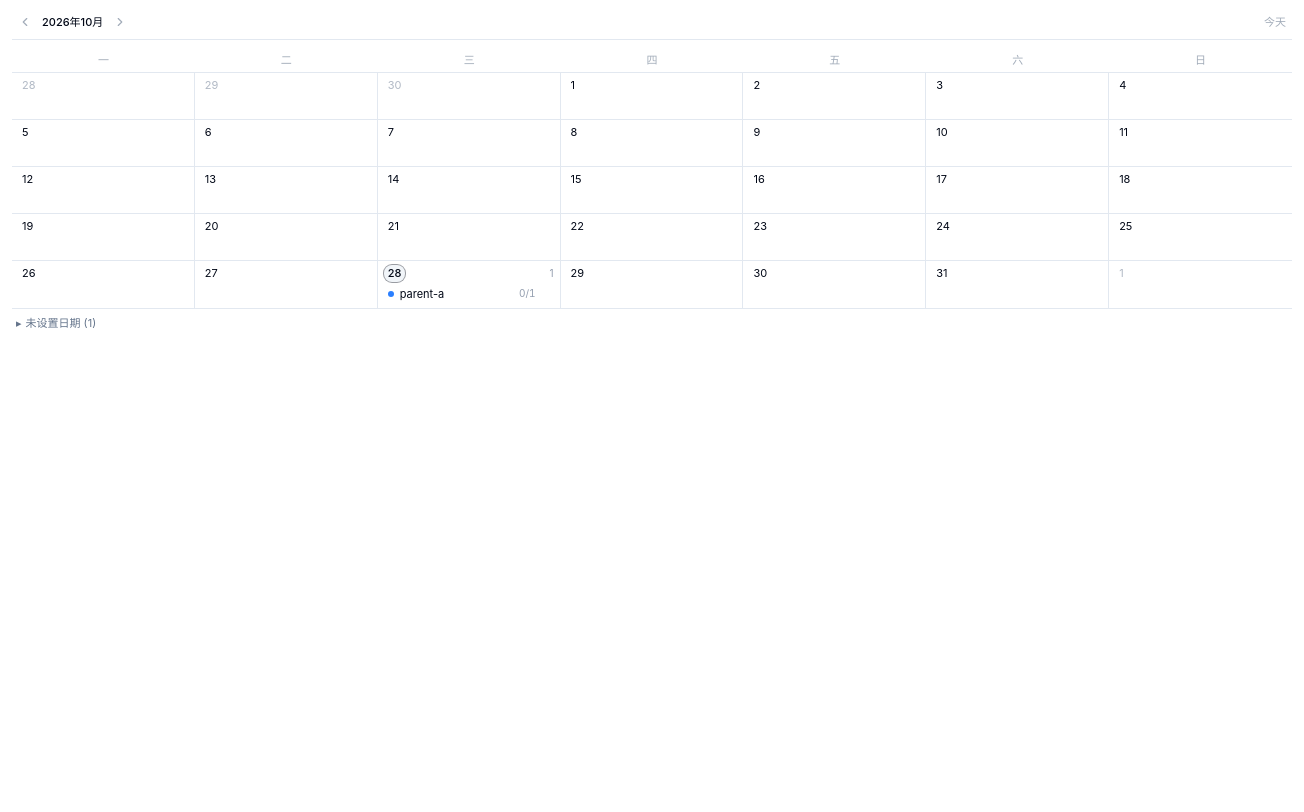
Scenario: TaskCalendar 子任务浮层入口 › 点外部关闭浮层
The image size is (1304, 812).
Click the button "0/1": (527,294) [519,286,536,301]
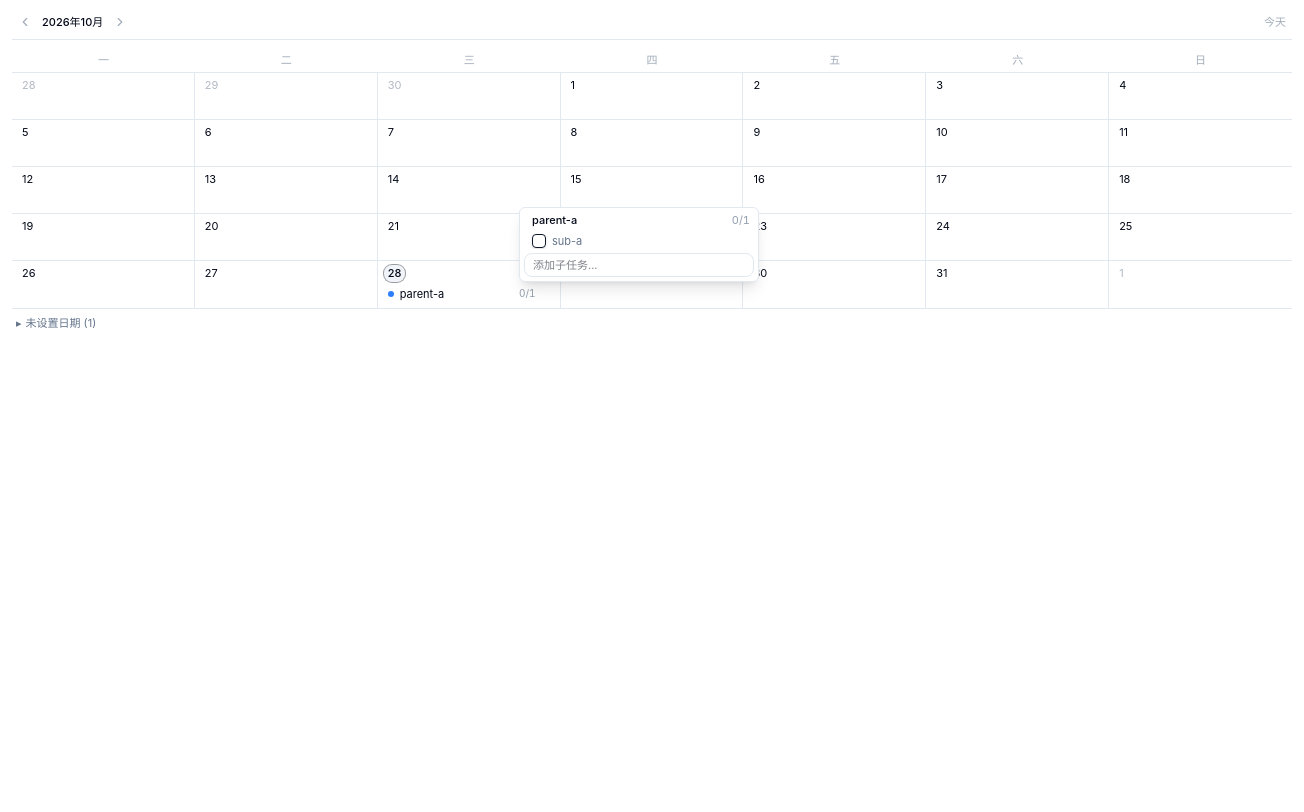
Now the field with placeholder "添加子任务..." is shown, box [524,253,754,277]
Press the mouse on the element that starts with "2026年10月": (652,412) [12,12,1292,811]
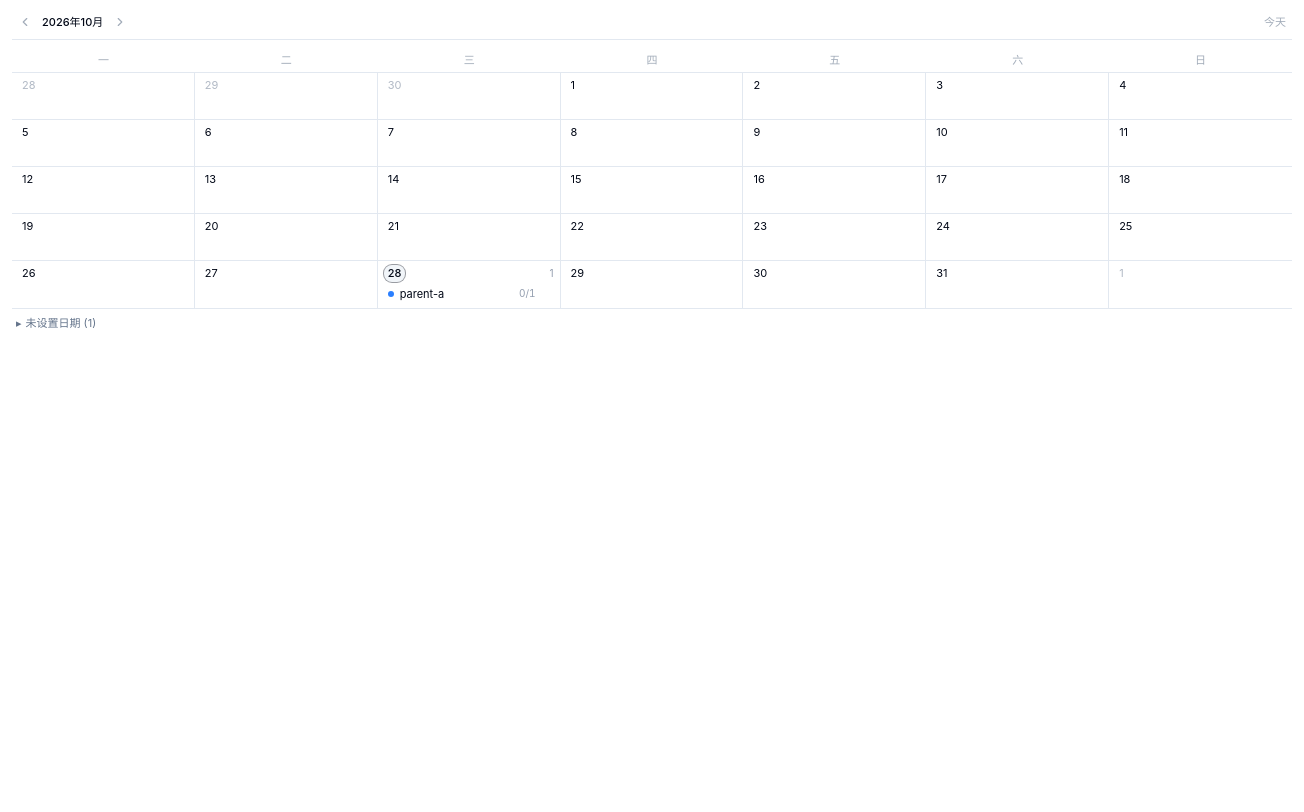
Now the field with placeholder "添加子任务..." is gone
